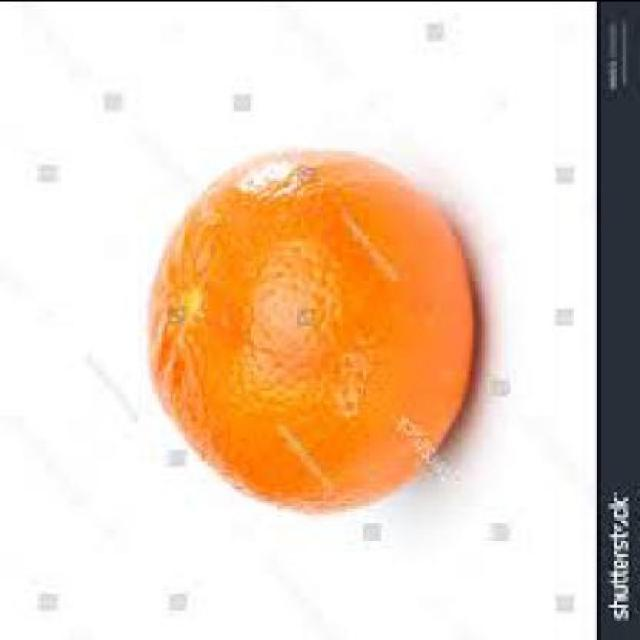BIODEGRADABLE: (151, 155, 475, 512)
